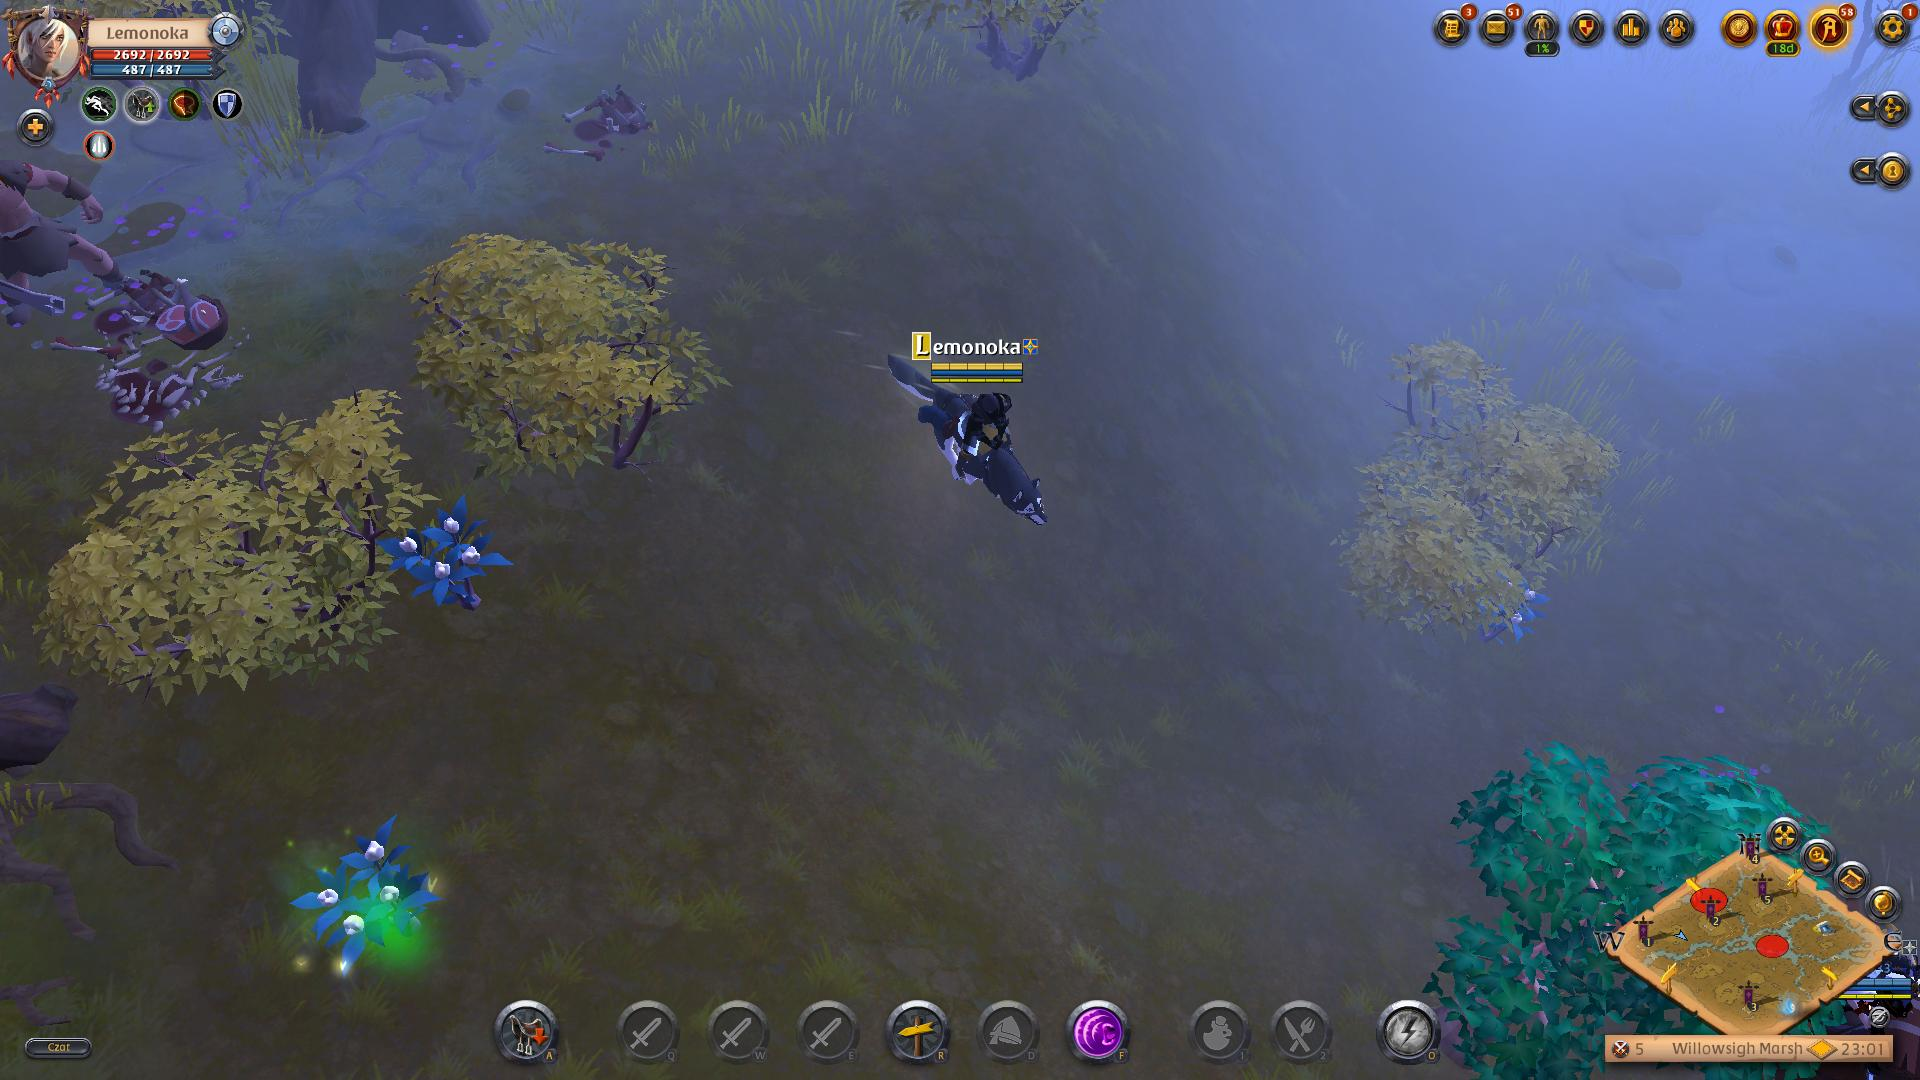fiber tier 4: (293, 815, 443, 978), (388, 497, 520, 612)
